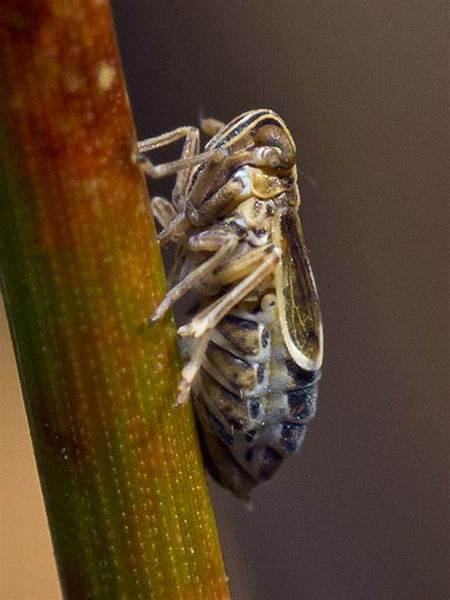Delphacidae: (129, 106, 324, 510)
